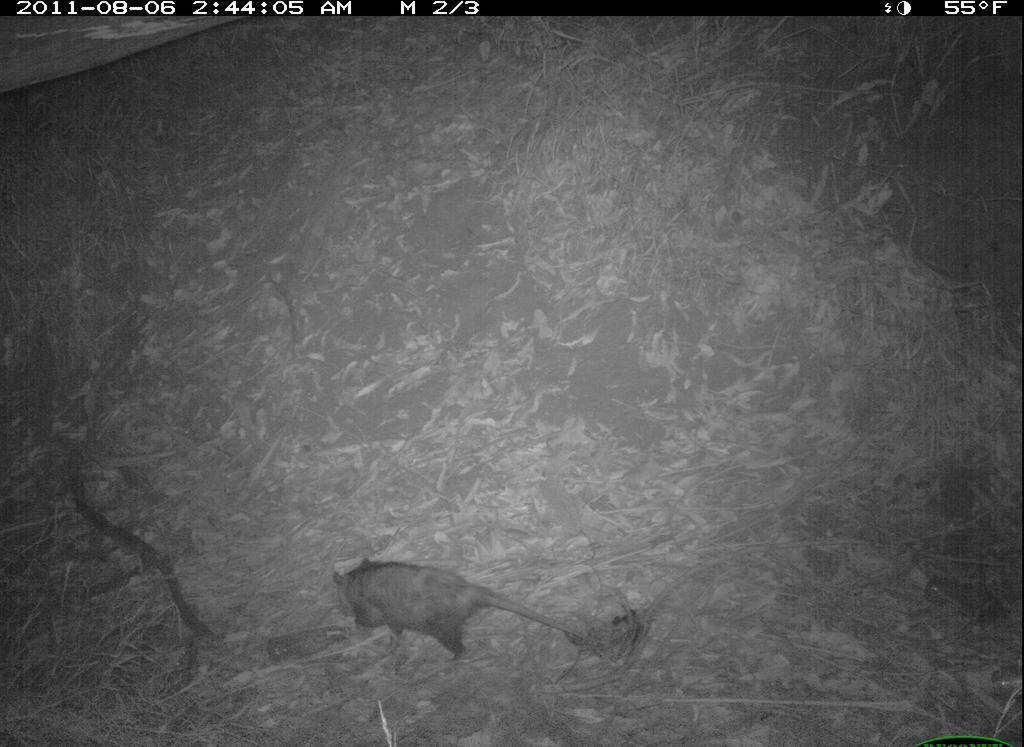opossum: (329, 551, 605, 676)
